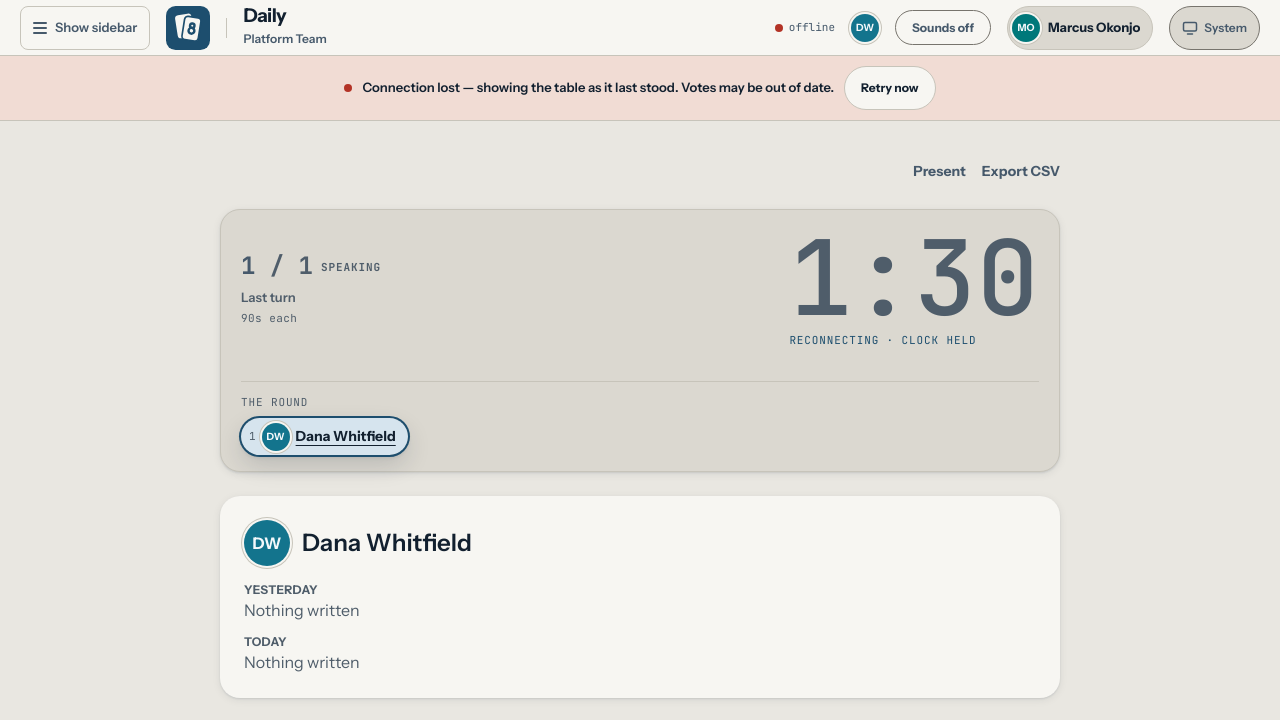
Test: SessionPage wiring › says a seated person is at this table, not that they are nowhere
Click the button with aria-label "Dana Whitfield" at (865, 28), box [851, 13, 879, 42]
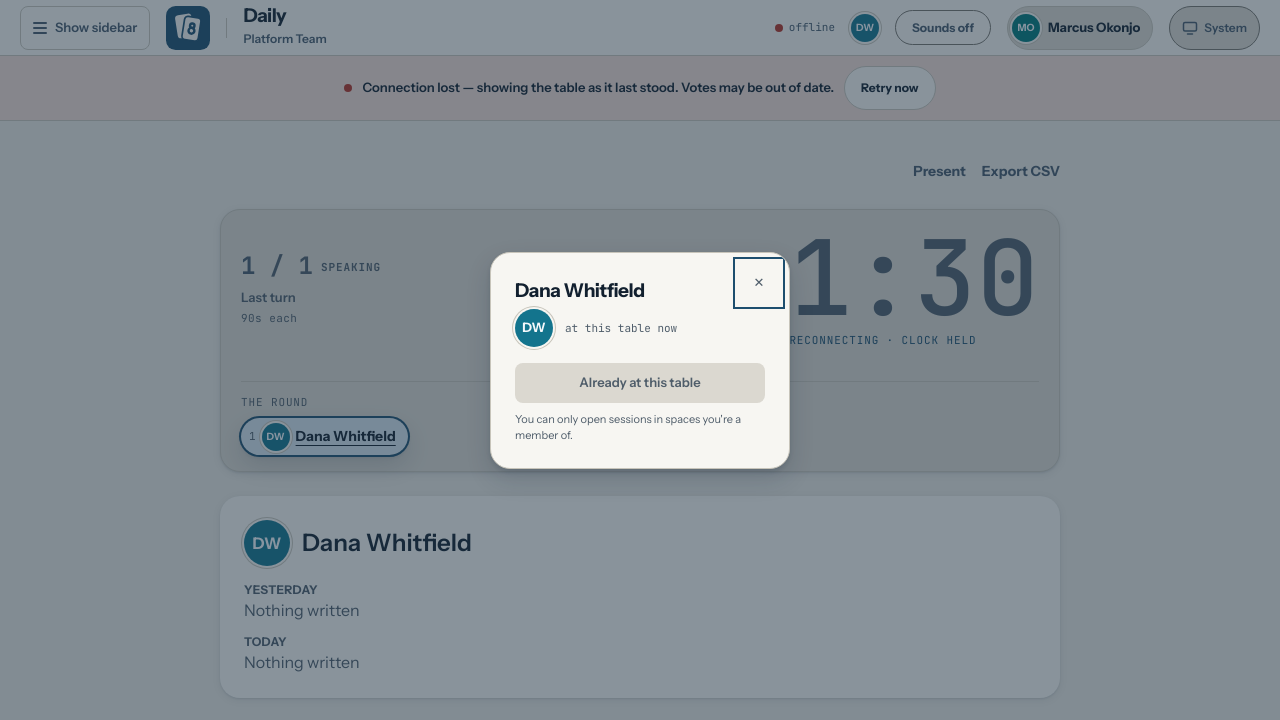
Now the text "at this table now" is shown, box [565, 320, 677, 336]
Now the text "Already at this table" is shown, box [515, 363, 765, 402]
